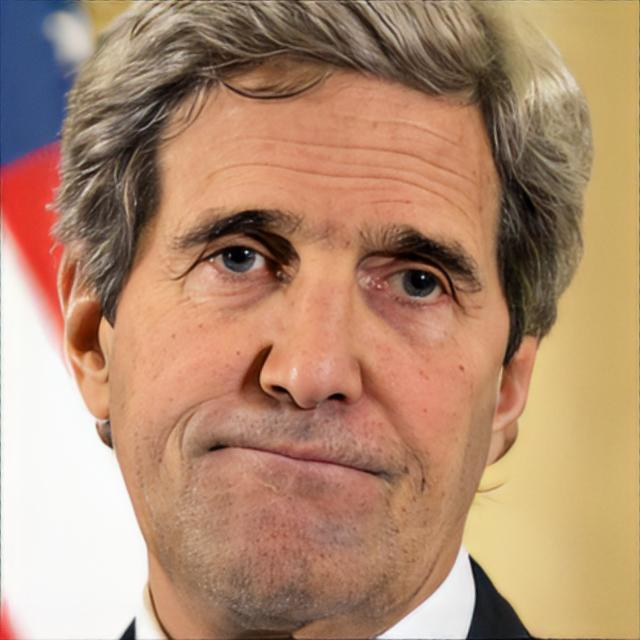content: (110, 59, 510, 626)
